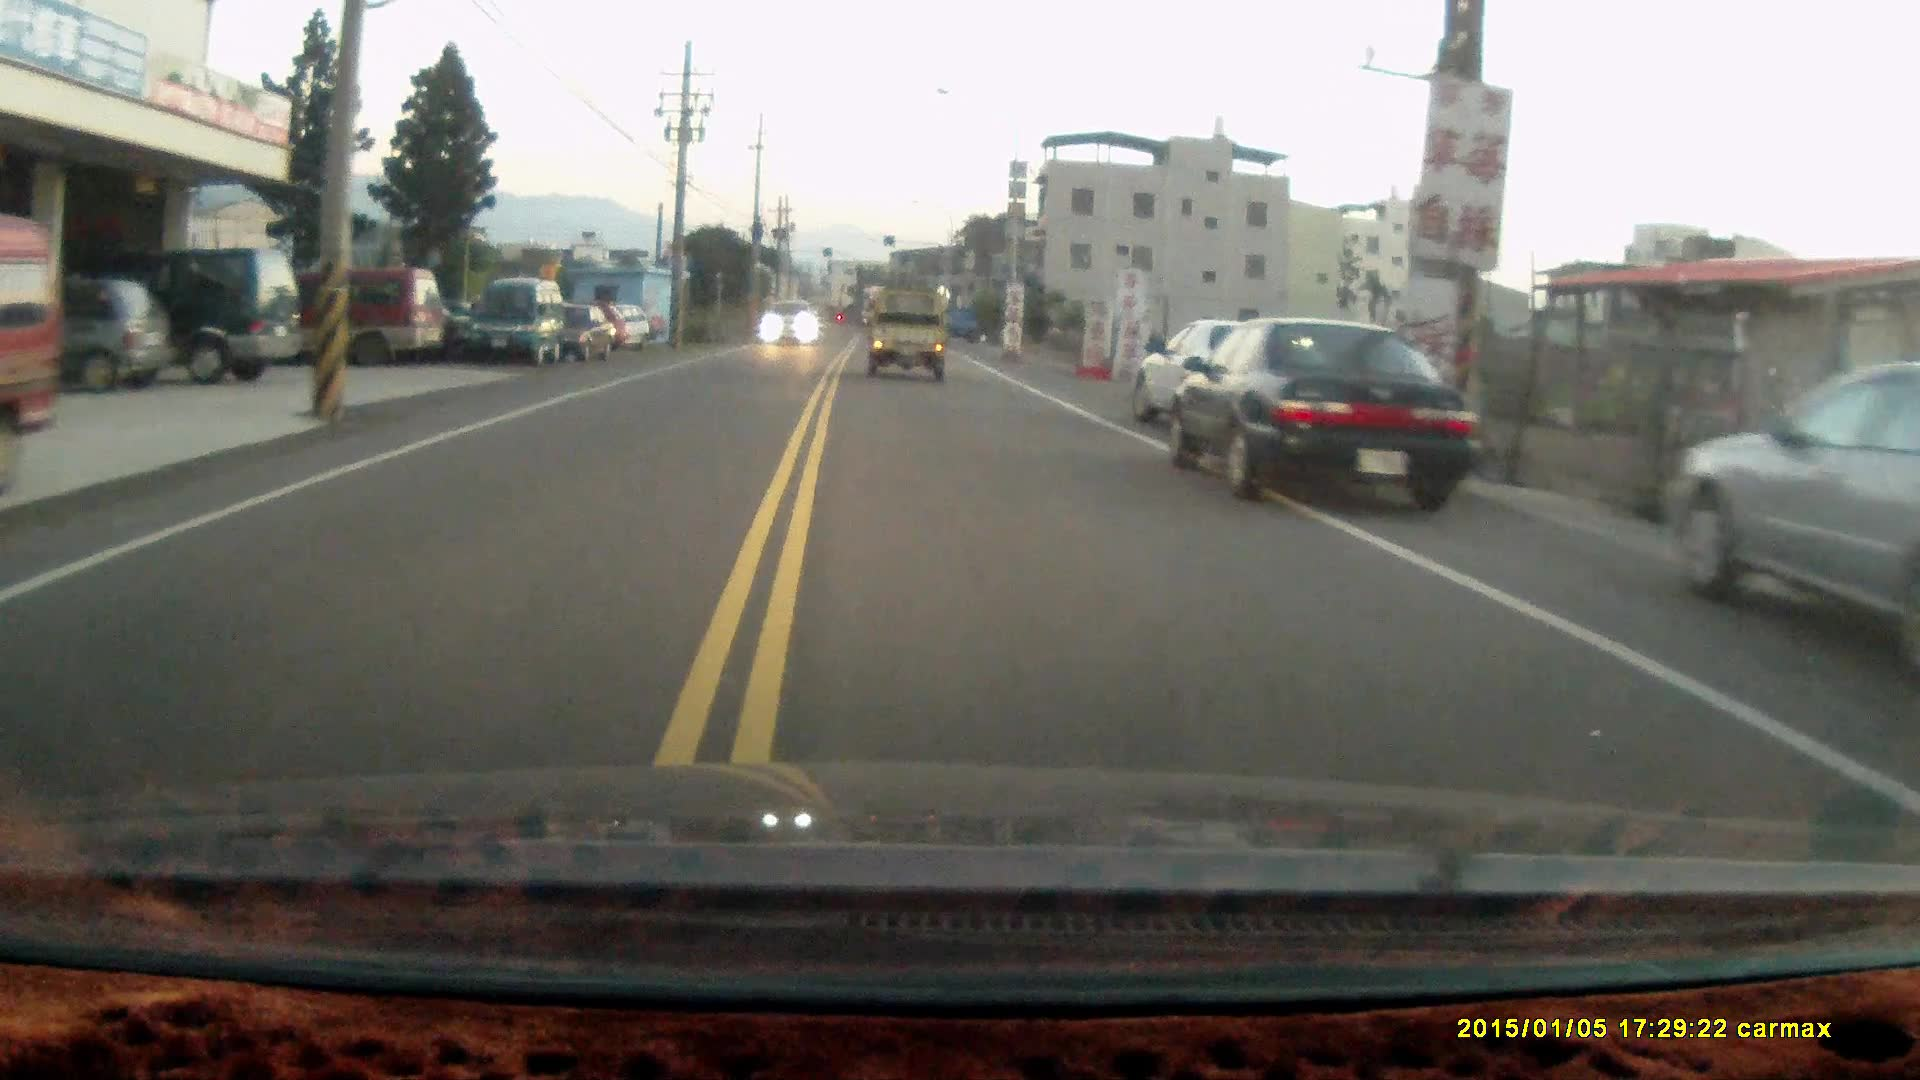vehicle: (1665, 367, 1920, 650), (1163, 315, 1478, 513), (51, 243, 306, 382), (1, 278, 179, 397), (1138, 318, 1312, 438), (1, 220, 80, 483), (237, 265, 446, 364), (456, 280, 562, 369), (865, 287, 949, 378), (545, 303, 620, 363), (760, 301, 820, 345)
